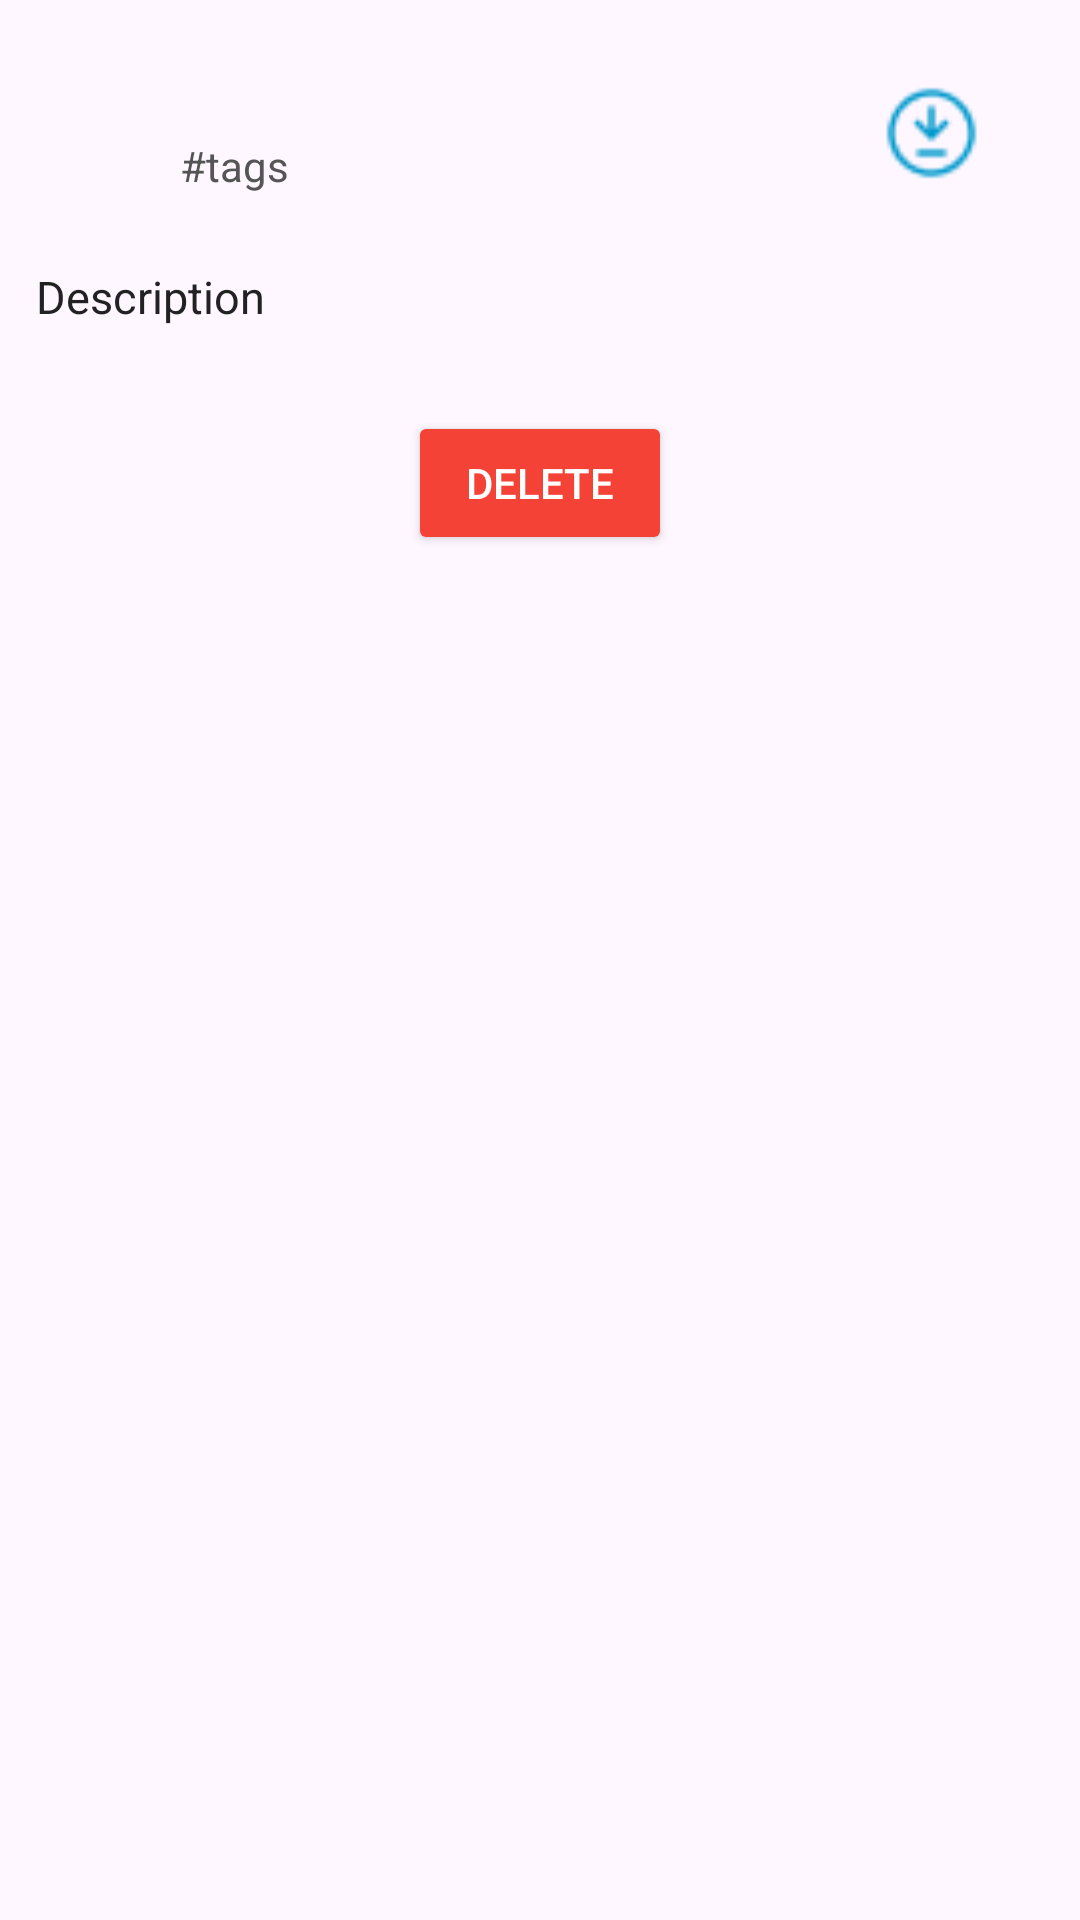

Locate icon controls on the screen. Image size 1080w x 1920h, boxes as bbox(x1, y1, x2, y2).
Download: bbox(886, 88, 977, 178)
